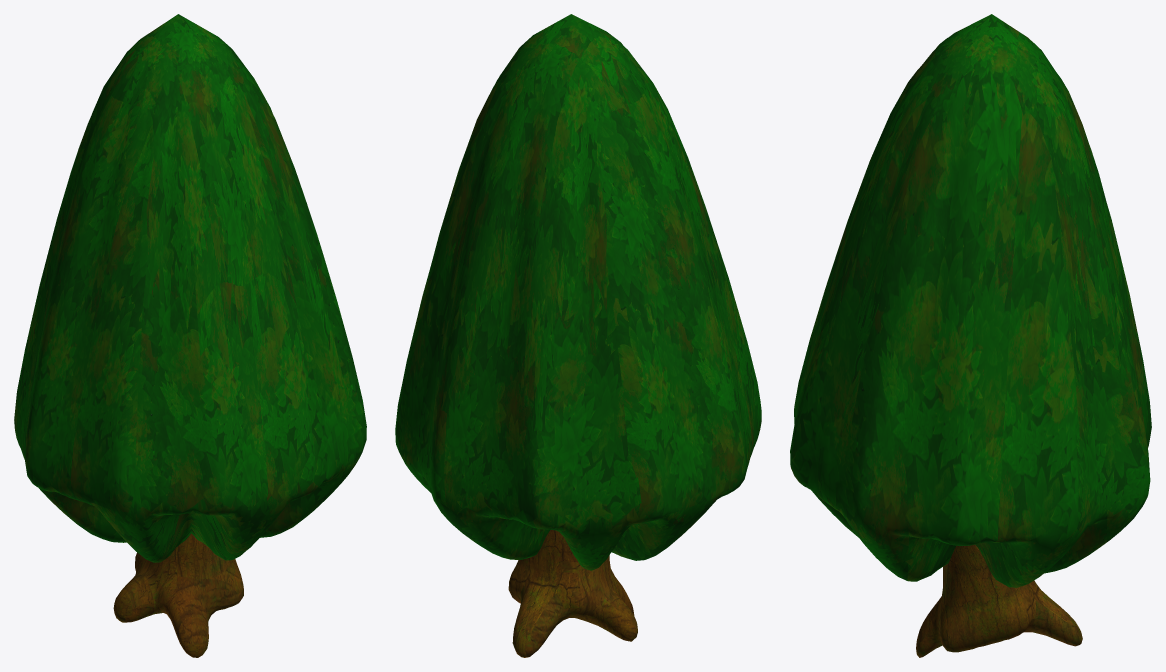
File: Arvore02.fbx
The picture shows the model from 3 angles, left to right: view 1: azimuth 30°, elevation 25°; view 2: azimuth 150°, elevation 25°; view 3: azimuth 270°, elevation 25°; orthographic projection. The views are drawn at different scales.
Parts seen in each view (by area): view 1: pCone4, pCube1; view 2: pCone4, pCube1; view 3: pCone4, pCube1.
Part boxes in pixels (x1,y1,x2,y2): pCone4: [14, 14, 366, 562]; pCube1: [113, 533, 243, 657]; pCone4: [395, 14, 761, 570]; pCube1: [508, 530, 637, 657]; pCone4: [790, 14, 1151, 587]; pCube1: [916, 544, 1082, 657].
Bounding box in the file's own units: 21.74 × 40.53 × 20.43.
2 materials, 2 textured.
